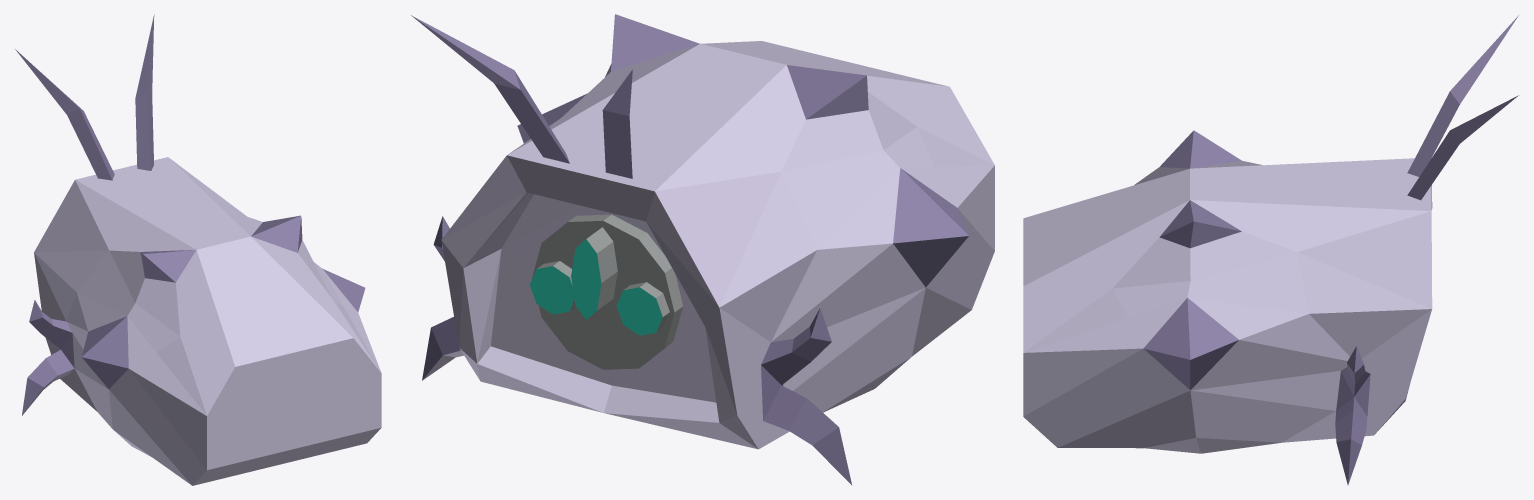
File: sylphheadPurple.glb
3 renders of one model, left to right at view 1: azimuth 30°, elevation 25°; view 2: azimuth 150°, elevation 25°; view 3: azimuth 270°, elevation 25°, orthographic. The views are drawn at different scales.
Visible parts, largest first — view 1: Sylph frag head; view 2: Sylph frag head; view 3: Sylph frag head.
Part boxes in pixels (bbox=[...]): Sylph frag head: bbox=[15, 14, 381, 485]; Sylph frag head: bbox=[411, 14, 994, 485]; Sylph frag head: bbox=[1023, 15, 1518, 485].
Size of the model in its own units: 0.5096 by 0.5133 by 0.6533.
5 materials, 5 textured.
